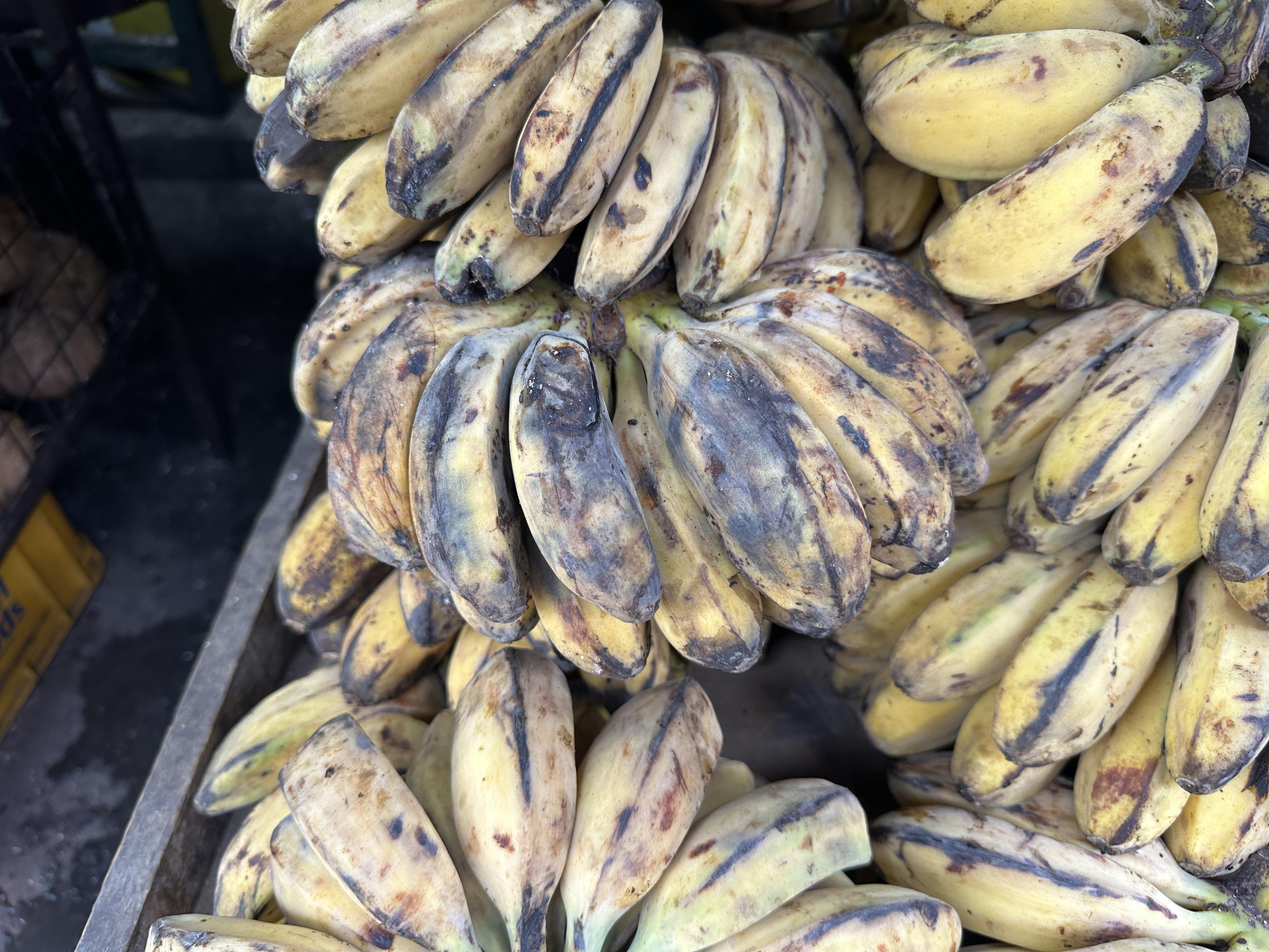ripe: (295, 241, 988, 678), (147, 649, 962, 952), (231, 0, 871, 306), (831, 511, 1269, 877), (851, 0, 1204, 303), (958, 299, 1269, 623), (870, 752, 1209, 952), (1014, 94, 1269, 309)
